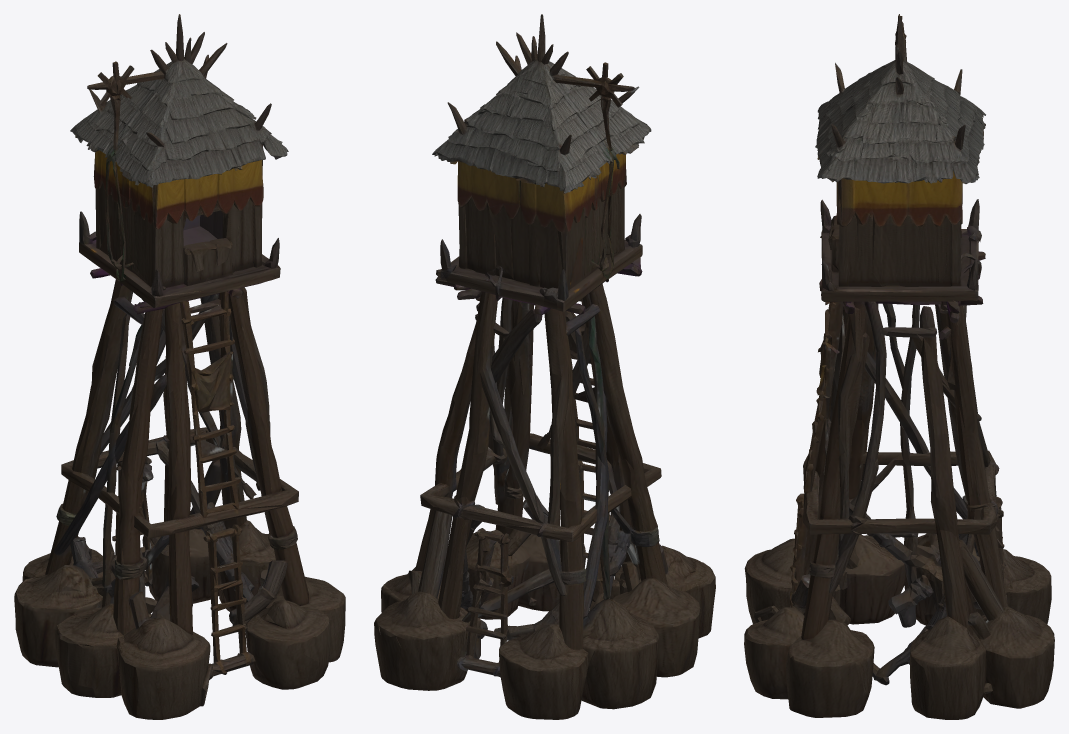
The model's file is torre.glb.
The picture shows the model from 3 angles, left to right: view 1: azimuth 30°, elevation 25°; view 2: azimuth 150°, elevation 25°; view 3: azimuth 270°, elevation 25°; orthographic projection.
Size of the model in its own units: 0.8331 by 1.9 by 0.8309.
1 material, 1 textured.
